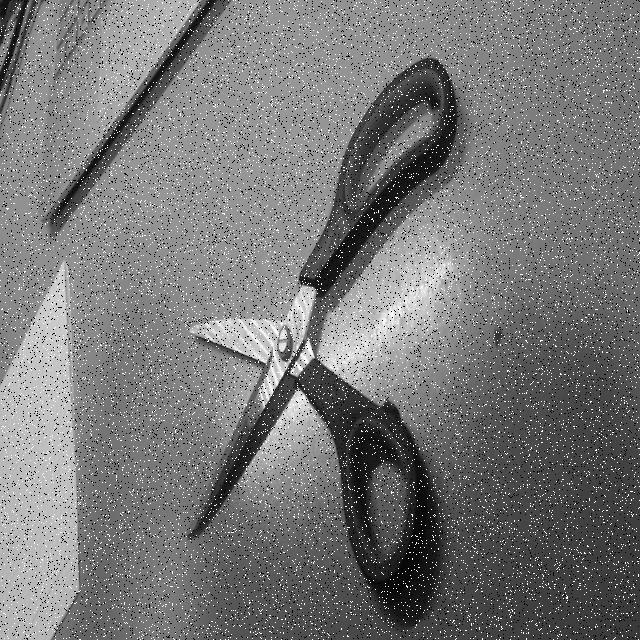scissors: (188, 48, 458, 602)
